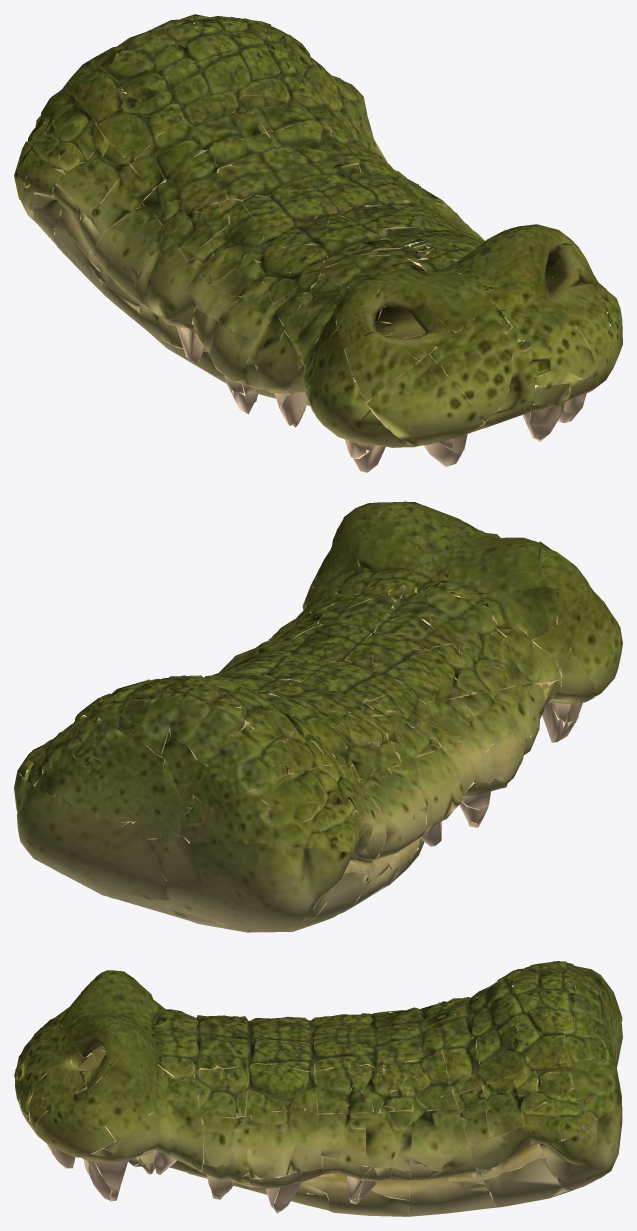
Rendered from croc-snout-phone.glb.
3 views of the same model, one above another, from view 1: azimuth 30°, elevation 25°; view 2: azimuth 150°, elevation 25°; view 3: azimuth 270°, elevation 25° (orthographic). The views are drawn at different scales.
Parts seen in each view (by area): view 1: Mesh_0; view 2: Mesh_0; view 3: Mesh_0.
Boxes of the visible parts, <box> form: Mesh_0: <box>14,14,622,472</box>; Mesh_0: <box>14,501,622,932</box>; Mesh_0: <box>14,961,622,1216</box>.
Bounding box in the file's own units: 0.9878 × 0.7785 × 1.91.
Materials: 1 (1 with a texture image).
